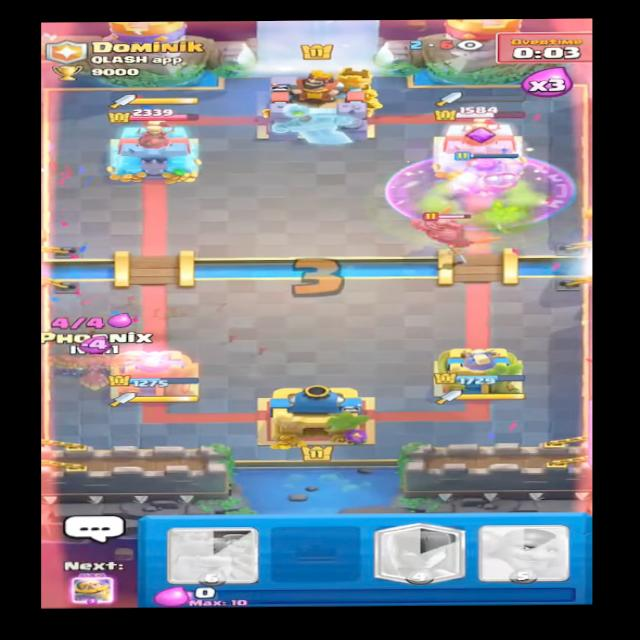pekka: (404, 207, 484, 246)
